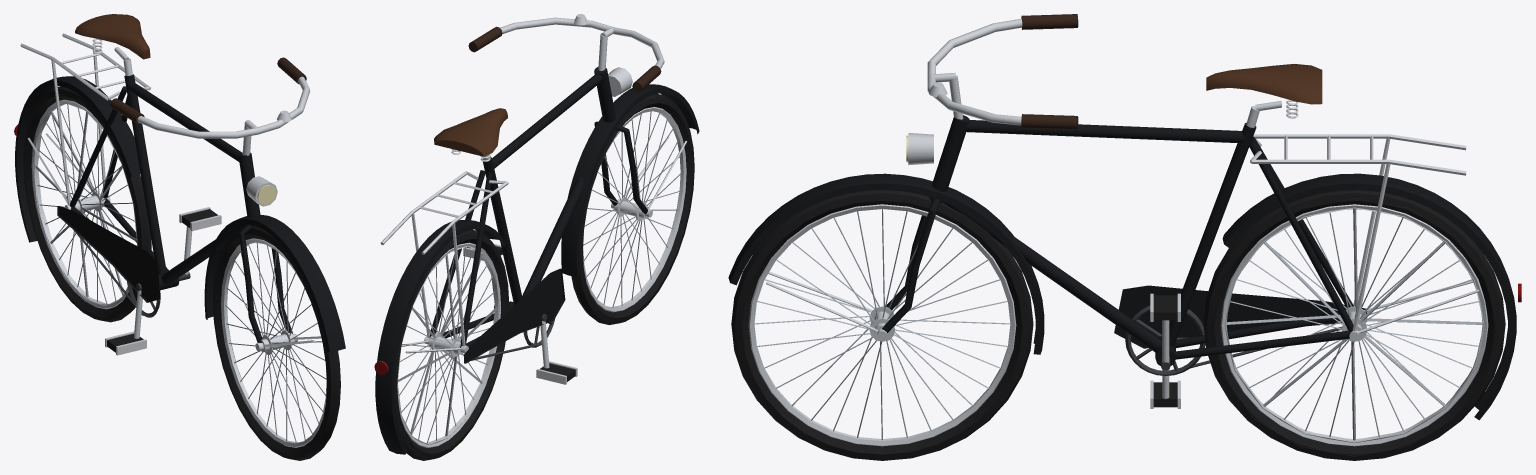
File: bike.9b59aabf.glb
3 views of the same model, side by side, from view 1: azimuth 30°, elevation 25°; view 2: azimuth 150°, elevation 25°; view 3: azimuth 270°, elevation 25° (orthographic). The views are drawn at different scales.
Parts seen in each view (by area): view 1: bike_frame, bike_wheel, bike_wheel_rear, bike_wheel_lod1_rear, bike_crank, bike_pedal_left, bike_pedal; view 2: bike_frame, bike_wheel, bike_wheel_rear, bike_wheel_lod1_rear, bike_pedal, bike_crank; view 3: bike_frame, bike_wheel, bike_wheel_rear, bike_wheel_lod1_rear, bike_crank, bike_pedal_left.
Boxes of the visible parts, box(x1,y1,x2,y2) form: bike_frame: box(14, 14, 345, 352); bike_wheel: box(212, 226, 340, 460); bike_wheel_rear: box(23, 86, 151, 322); bike_wheel_lod1_rear: box(24, 93, 138, 317); bike_crank: box(127, 226, 192, 338); bike_pedal_left: box(179, 207, 221, 231); bike_pedal: box(105, 331, 146, 355); bike_frame: box(374, 14, 699, 454); bike_wheel: box(571, 94, 694, 324); bike_wheel_rear: box(395, 229, 509, 460); bike_wheel_lod1_rear: box(395, 236, 508, 455); bike_pedal: box(536, 361, 577, 384); bike_crank: box(494, 305, 555, 368); bike_frame: box(728, 14, 1521, 420); bike_wheel: box(731, 190, 1033, 460); bike_wheel_rear: box(1203, 190, 1505, 460); bike_wheel_lod1_rear: box(1211, 198, 1497, 456); bike_crank: box(1125, 305, 1205, 398); bike_pedal_left: box(1150, 293, 1180, 321).
Size of what is drawn, in the model's own units: 0.5949 by 1.02 by 1.85.
1 material, 1 textured.
